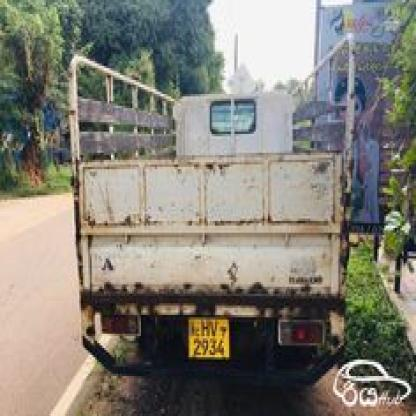Lorry back: (66, 36, 348, 370)
number plate: (190, 320, 226, 358)
